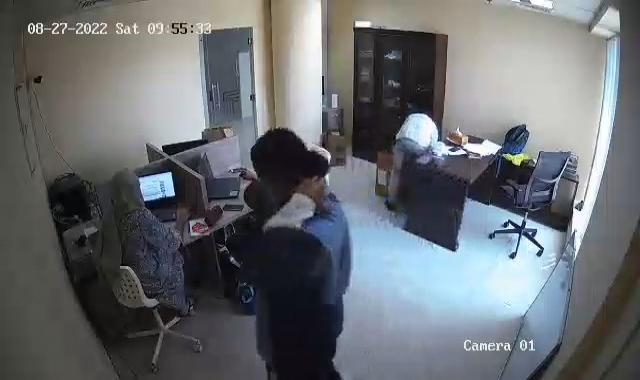no_hairnet: (110, 168, 144, 206)
